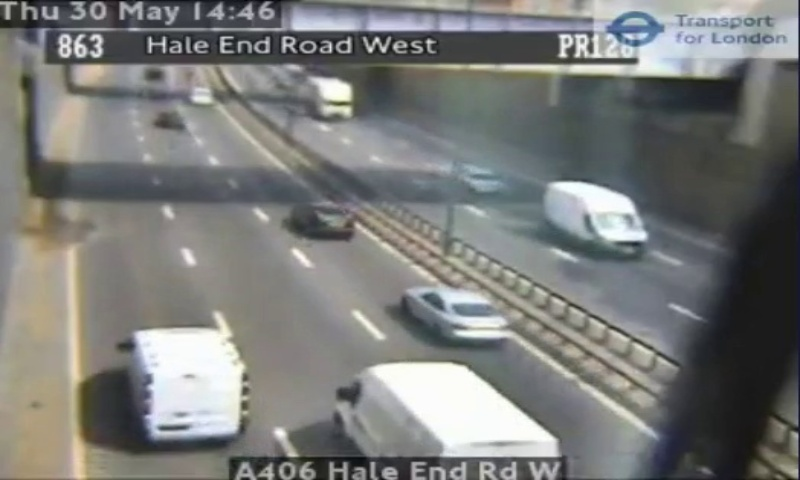car: (401, 286, 511, 341), (291, 203, 352, 236)
van: (335, 361, 561, 456), (126, 327, 248, 440)
